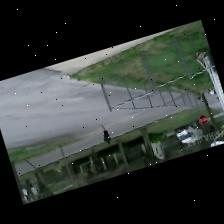person: (102, 125, 111, 143)
